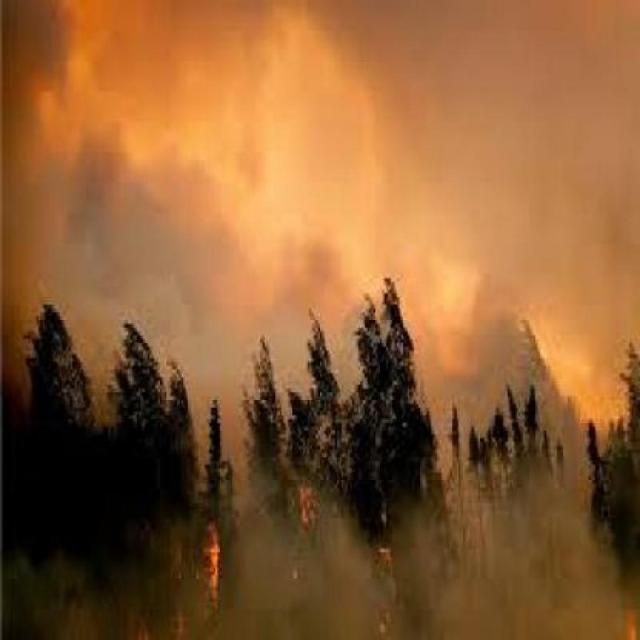Fire: (198, 517, 230, 620), (621, 565, 640, 640)
Smoke: (258, 487, 596, 640)
